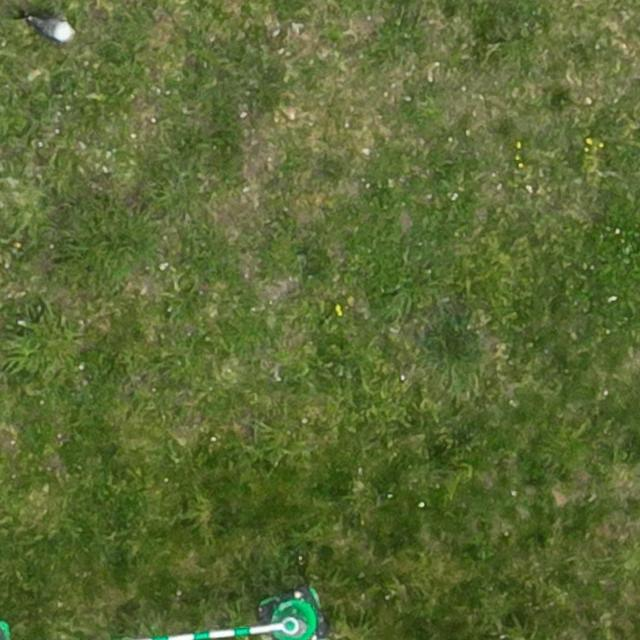umineko: (33, 18, 73, 41)
